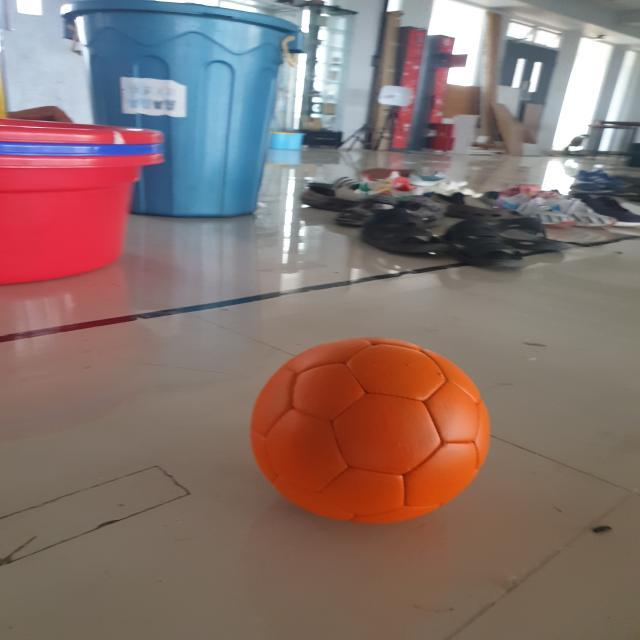bola: (244, 336, 498, 534)
